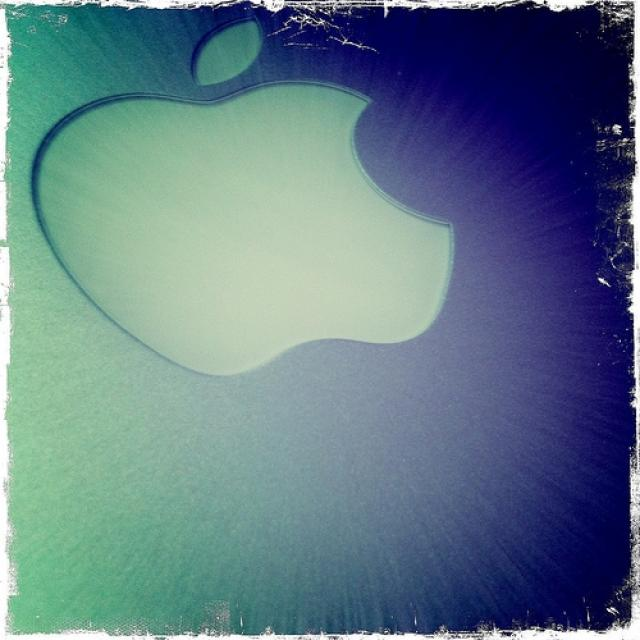apple: (12, 9, 476, 400)
